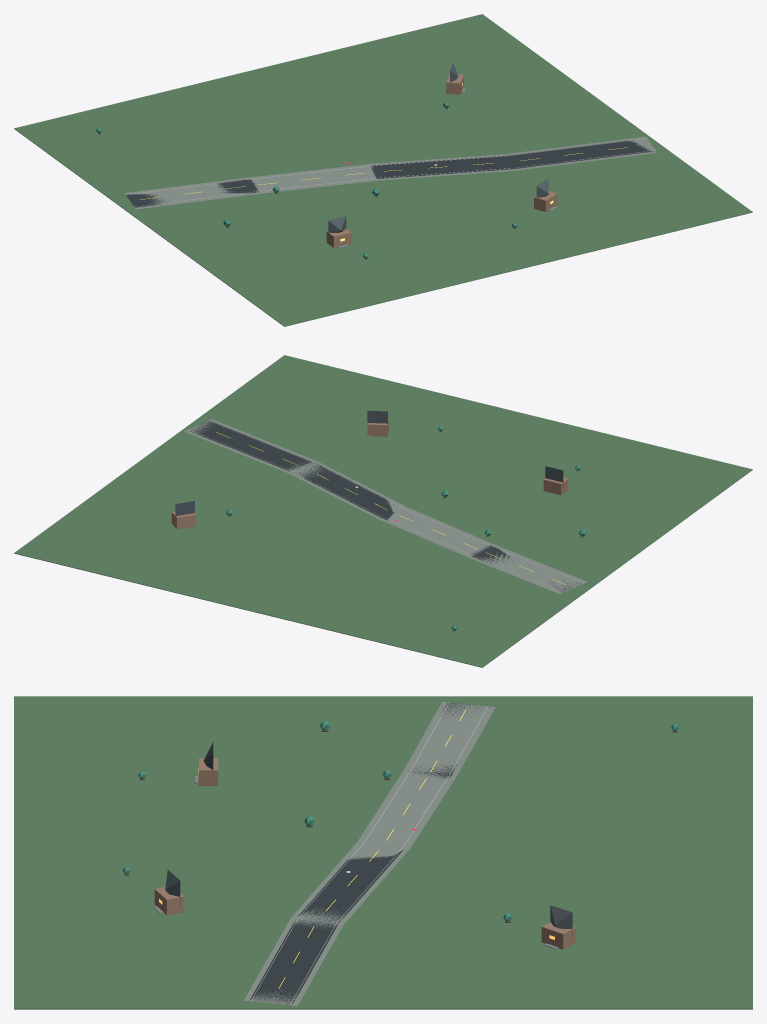
File: southern_crossroads.glb
The picture shows the model from 3 angles, top to bottom: view 1: azimuth 30°, elevation 25°; view 2: azimuth 150°, elevation 25°; view 3: azimuth 270°, elevation 25°; orthographic projection. The views are drawn at different scales.
Visible parts, largest first — view 1: SOUTHERN CROSSROADS sector ground, SOUTHERN CROSSROADS regional road shoulder, SOUTHERN CROSSROADS regional road; view 2: SOUTHERN CROSSROADS sector ground, SOUTHERN CROSSROADS regional road shoulder, SOUTHERN CROSSROADS regional road; view 3: SOUTHERN CROSSROADS sector ground, SOUTHERN CROSSROADS regional road shoulder, SOUTHERN CROSSROADS regional road, mountain cabin body.015, mountain cabin body.014.
Boxes of the visible parts, x1,y1,x2,y2 form: SOUTHERN CROSSROADS sector ground: (14, 14, 752, 326); SOUTHERN CROSSROADS regional road shoulder: (124, 136, 656, 209); SOUTHERN CROSSROADS regional road: (126, 140, 654, 207); SOUTHERN CROSSROADS sector ground: (14, 355, 752, 667); SOUTHERN CROSSROADS regional road shoulder: (184, 419, 587, 594); SOUTHERN CROSSROADS regional road: (189, 420, 581, 592); SOUTHERN CROSSROADS sector ground: (14, 696, 752, 1009); SOUTHERN CROSSROADS regional road shoulder: (244, 701, 495, 1005); SOUTHERN CROSSROADS regional road: (250, 702, 489, 1004); mountain cabin body.015: (541, 922, 575, 949); mountain cabin body.014: (154, 887, 184, 915).
Bounding box in the file's own units: 190 × 9.45 × 190.
